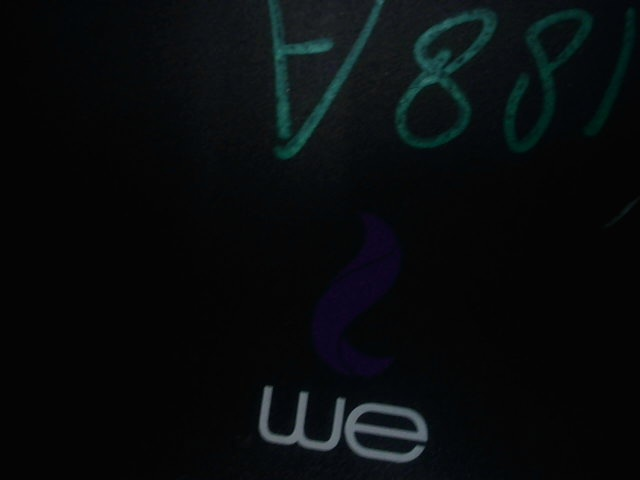AT_We: (229, 201, 435, 463)
